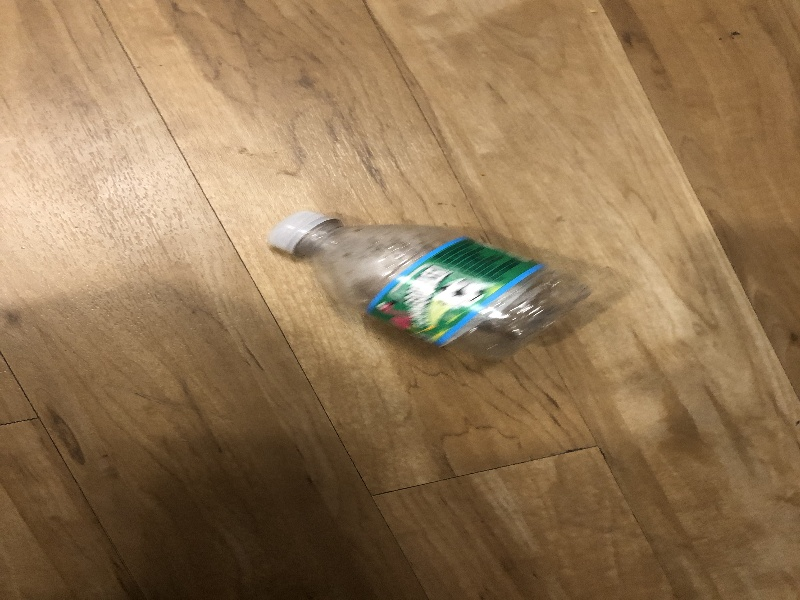plastic: (266, 205, 605, 375)
